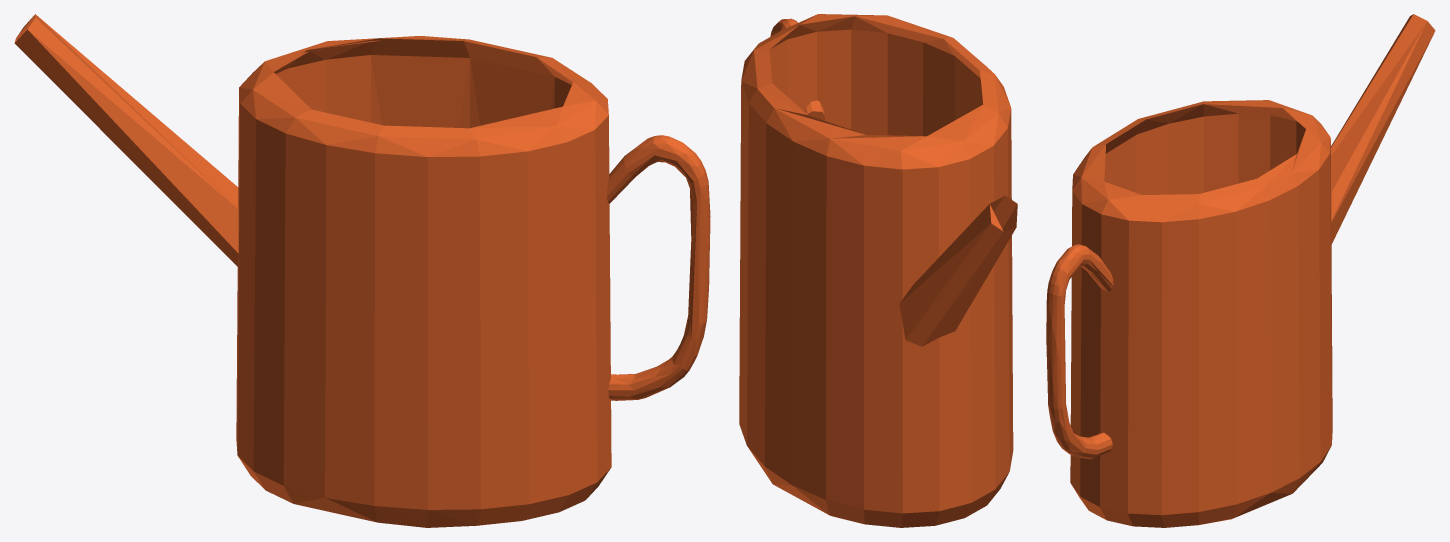
Rendered from can.glb.
3 views of the same model, side by side, from view 1: azimuth 30°, elevation 25°; view 2: azimuth 150°, elevation 25°; view 3: azimuth 270°, elevation 25° (orthographic). The views are drawn at different scales.
Parts seen in each view (by area): view 1: Cylinder001, Line002; view 2: Cylinder001, Line002; view 3: Cylinder001, Line002.
Part boxes in pixels (bbox=[...]): Cylinder001: bbox=[14, 14, 611, 527]; Line002: bbox=[607, 135, 710, 400]; Cylinder001: bbox=[739, 14, 1017, 527]; Line002: bbox=[770, 18, 824, 120]; Cylinder001: bbox=[1070, 14, 1435, 527]; Line002: bbox=[1046, 244, 1113, 459].
Bounding box in the file's own units: 481261 × 417672 × 411995.
